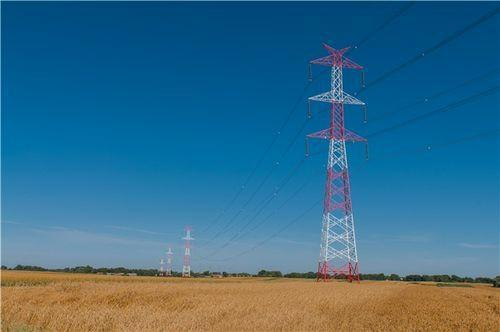power_tower: (299, 42, 370, 285), (179, 220, 196, 280), (166, 242, 179, 276)
